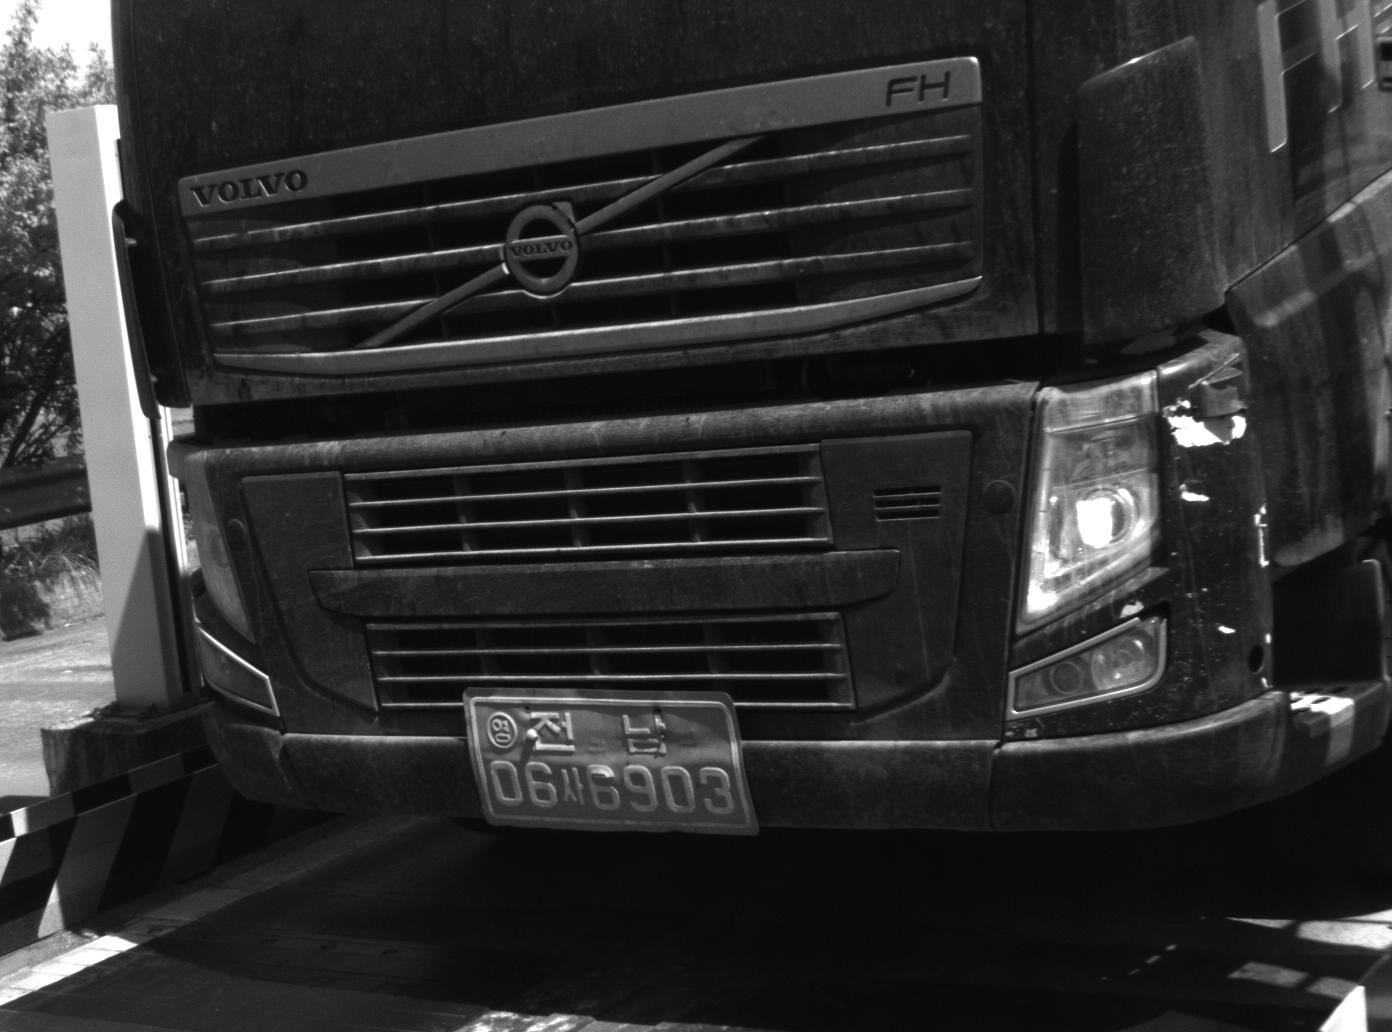car: (106, 1, 1392, 854)
plate: (463, 686, 762, 841)
